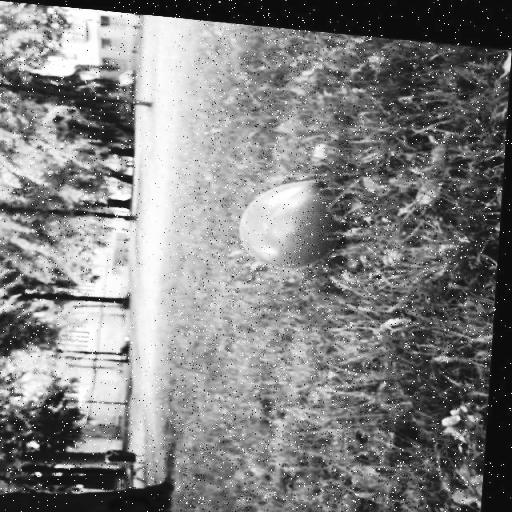balloon: (239, 166, 349, 269)
